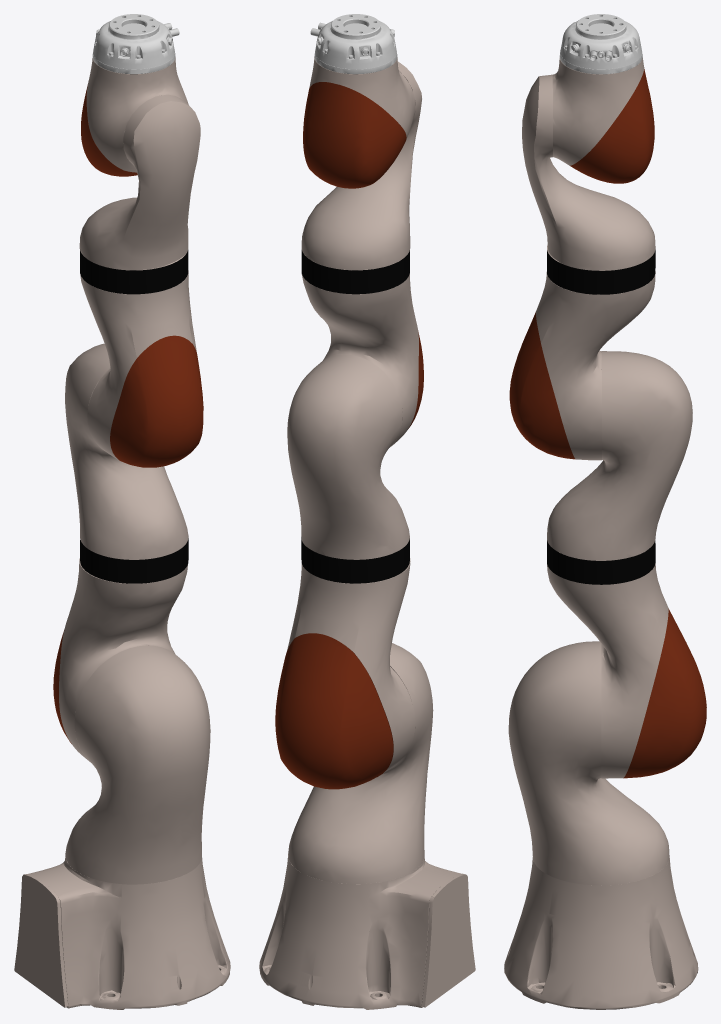
Rendered from Kuka LBR iiwa 14 R820.obj.
The picture shows the model from 3 angles, left to right: view 1: azimuth 30°, elevation 25°; view 2: azimuth 150°, elevation 25°; view 3: azimuth 270°, elevation 25°; orthographic projection.
Visible parts, largest first — view 1: Link1, Base, Link4, Link5, Link3, Link2, Link6, Link7; view 2: Base, Link2, Link3, Link1, Link5, Link6, Link4, Link7; view 3: Link1, Base, Link3, Link2, Link4, Link5, Link6, Link7.
Boxes of the visible parts, x1,y1,x2,y2 form: Link1: [65, 645, 210, 884]; Base: [14, 855, 230, 1009]; Link4: [80, 270, 203, 467]; Link5: [79, 94, 200, 294]; Link3: [65, 343, 188, 583]; Link2: [53, 558, 187, 762]; Link6: [81, 57, 188, 176]; Link7: [92, 14, 179, 74]; Base: [259, 854, 475, 1009]; Link2: [275, 558, 415, 789]; Link3: [287, 354, 409, 583]; Link1: [288, 643, 433, 883]; Link5: [301, 61, 421, 294]; Link6: [303, 56, 415, 188]; Link4: [301, 273, 423, 447]; Link7: [310, 14, 397, 74]; Link1: [508, 641, 669, 885]; Base: [504, 856, 698, 1009]; Link3: [547, 351, 692, 584]; Link2: [547, 563, 706, 778]; Link4: [509, 271, 655, 460]; Link5: [522, 74, 655, 294]; Link6: [552, 58, 654, 183]; Link7: [559, 14, 642, 74].
Size of the model in its own units: 0.2574 by 1.31 by 0.2535.
